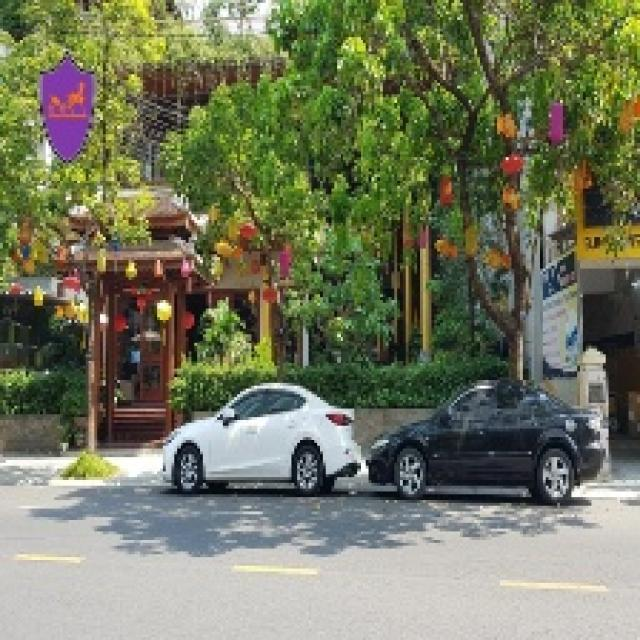car: (371, 377, 611, 497), (147, 380, 361, 503)
